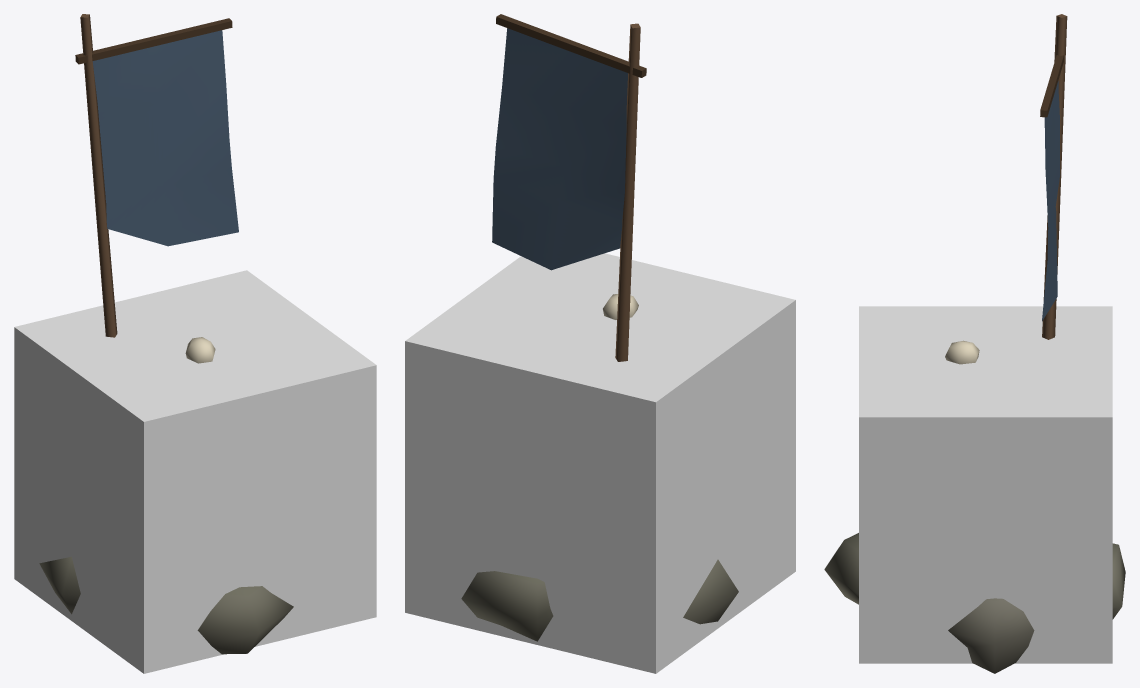
The model's file is frost_cairn.glb.
The picture shows the model from 3 angles, left to right: view 1: azimuth 30°, elevation 25°; view 2: azimuth 150°, elevation 25°; view 3: azimuth 270°, elevation 25°; orthographic projection. The views are drawn at different scales.
Visible parts, largest first — view 1: COL_cairn, frost_cairn; view 2: COL_cairn, frost_cairn; view 3: COL_cairn, frost_cairn.
Boxes of the visible parts, x1,y1,x2,y2 form: COL_cairn: (14, 270, 376, 673); frost_cairn: (39, 14, 293, 654); COL_cairn: (405, 253, 795, 673); frost_cairn: (461, 14, 738, 641); COL_cairn: (859, 306, 1112, 663); frost_cairn: (824, 14, 1125, 673).
Size of the model in its own units: 1.72 by 3.41 by 1.66.
